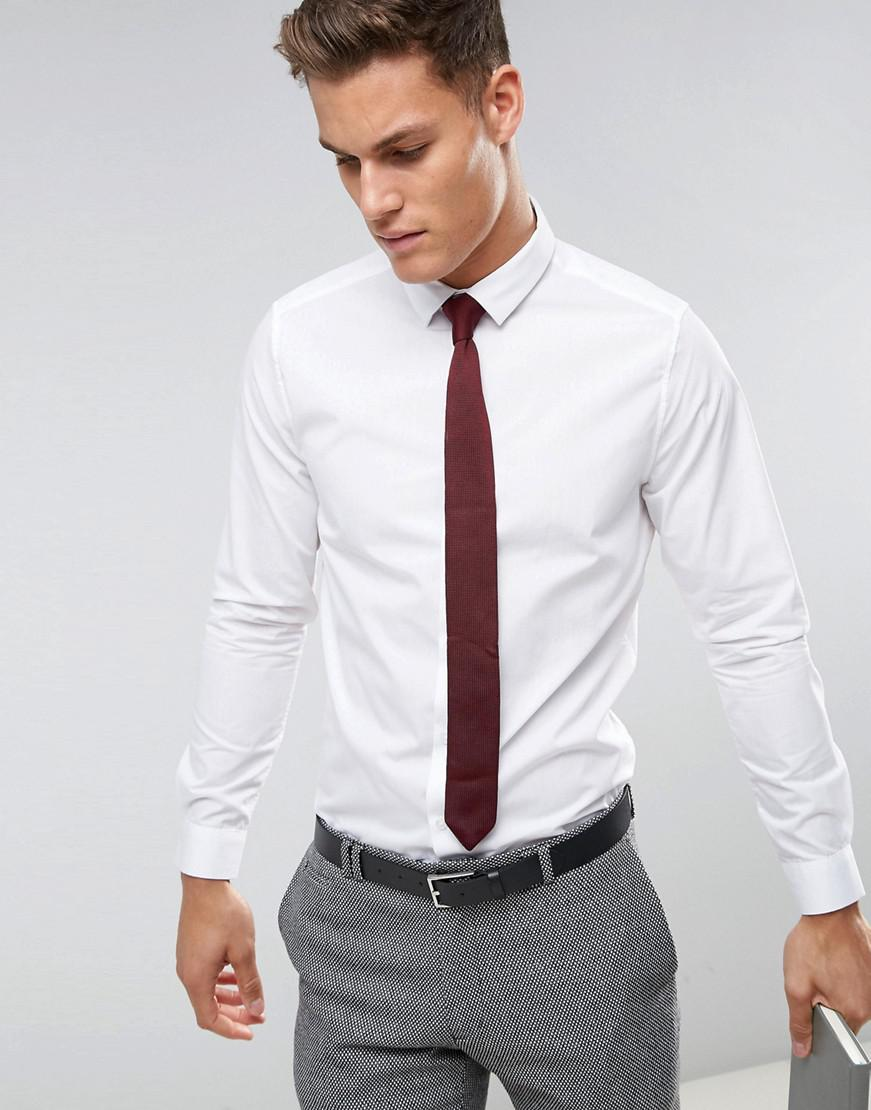teeshirt: (169, 251, 871, 920)
